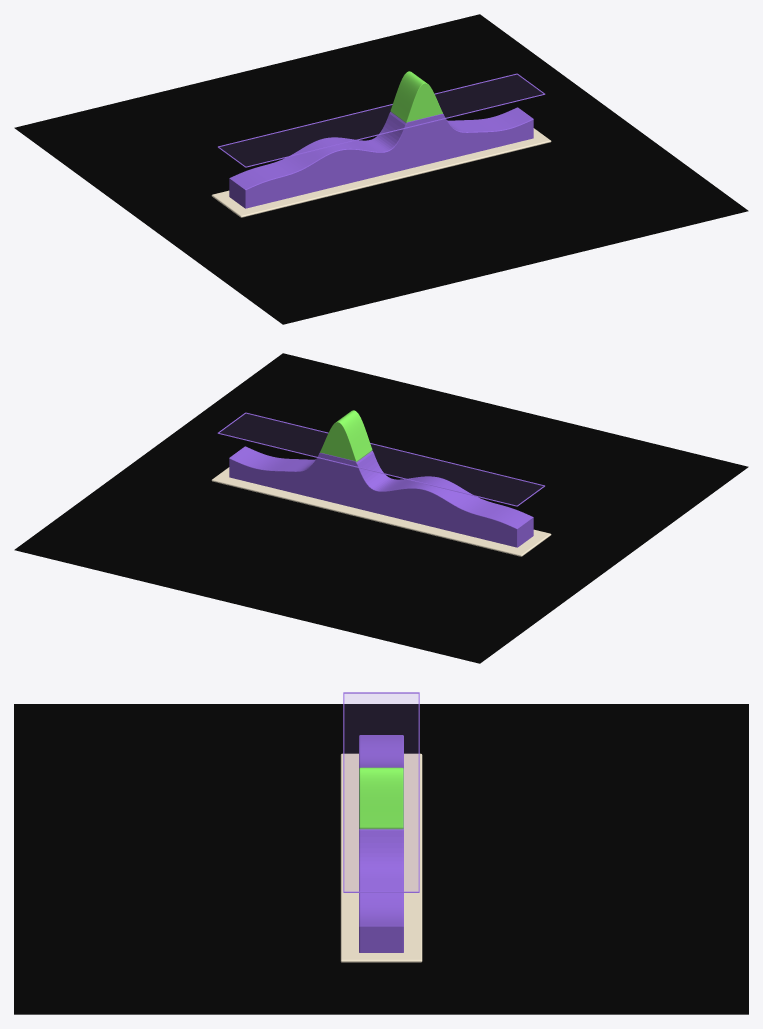
Rendered from sett-scroll-voordeel-peakshaving.glb.
3 renders of one model, top to bottom at view 1: azimuth 30°, elevation 25°; view 2: azimuth 150°, elevation 25°; view 3: azimuth 270°, elevation 25°, orthographic. The views are drawn at different scales.
Parts seen in each view (by area): view 1: contact_shadow, object 1, object 3, object 8, scroll_grow; view 2: contact_shadow, object 1, object 3, object 8, scroll_grow; view 3: contact_shadow, object 3, object 8, object 1, scroll_grow.
Part boxes in pixels (x1=…): contact_shadow: x1=14, y1=14, x2=748, y2=324; object 1: x1=229, y1=107, x2=533, y2=208; object 3: x1=221, y1=75, x2=542, y2=165; object 8: x1=211, y1=128, x2=551, y2=217; scroll_grow: x1=390, y1=71, x2=442, y2=123; contact_shadow: x1=14, y1=353, x2=748, y2=663; object 1: x1=229, y1=446, x2=533, y2=547; object 3: x1=220, y1=414, x2=541, y2=504; object 8: x1=211, y1=467, x2=551, y2=556; scroll_grow: x1=320, y1=410, x2=372, y2=462; contact_shadow: x1=14, y1=704, x2=748, y2=1014; object 3: x1=345, y1=693, x2=417, y2=890; object 8: x1=340, y1=753, x2=422, y2=962; object 1: x1=359, y1=735, x2=403, y2=952; scroll_grow: x1=359, y1=767, x2=403, y2=829.
Size of the model in its own units: 2430 by 418 by 2430.
Materials: 6 (1 with a texture image).
